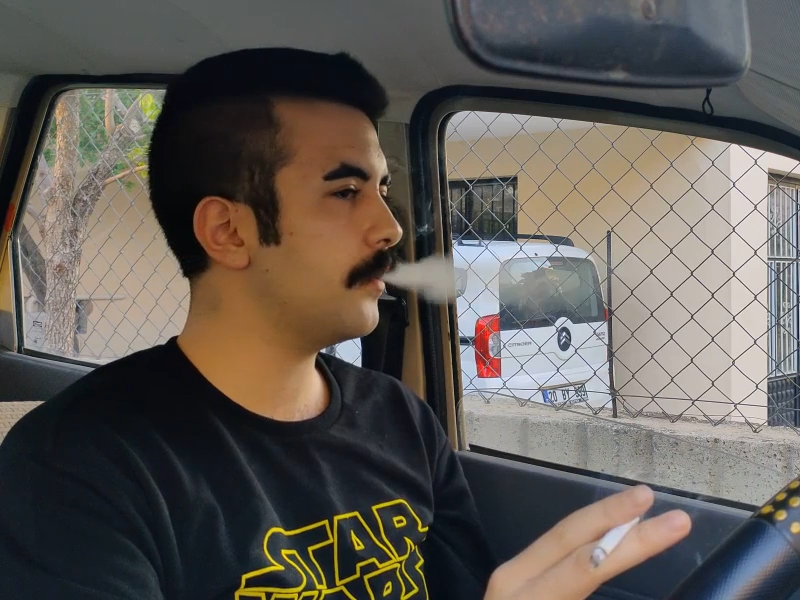sigara: (585, 516, 640, 570)
